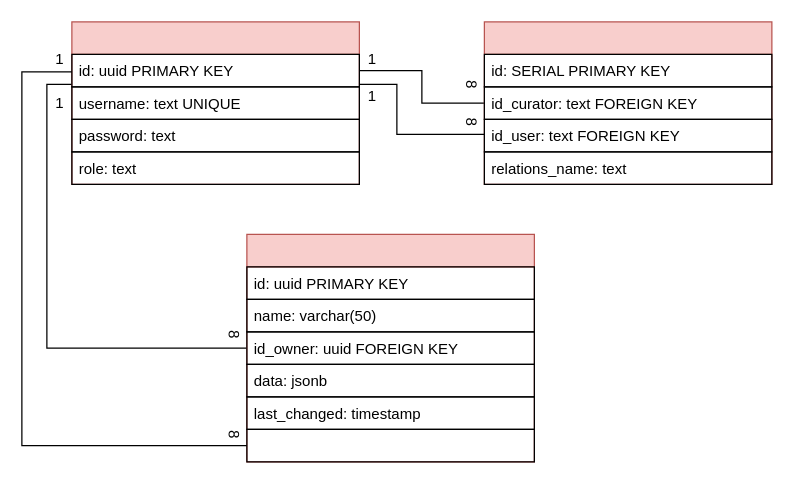
This 794x488 diagram has some shape labels left out. Here are the shapes that lost their labels. From the top down, the box of each, then its label:
(71, 21, 359, 184): Пользователь
(483, 21, 772, 184): Куратор
(246, 233, 534, 462): Схема
(246, 428, 534, 462): last_changed_by_id: uuid
